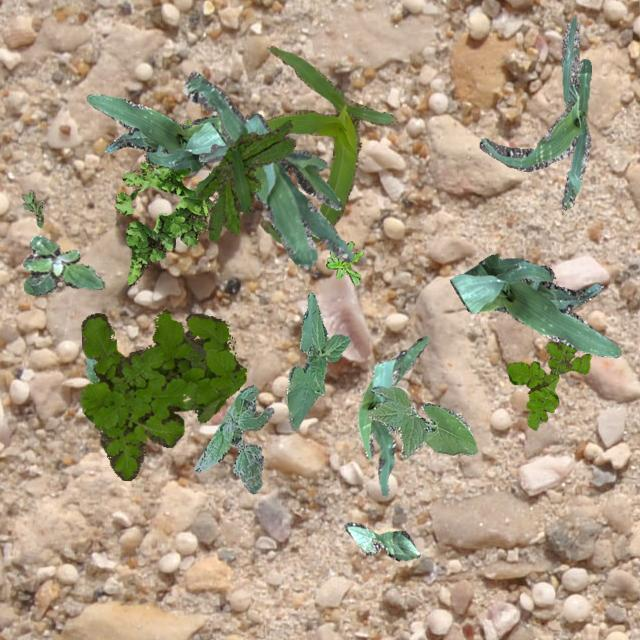crop: (182, 70, 352, 268), (260, 44, 396, 242), (478, 14, 590, 210), (448, 252, 620, 356), (358, 336, 428, 496), (86, 94, 226, 170), (284, 292, 350, 429), (368, 384, 477, 458), (191, 114, 289, 178), (344, 522, 418, 560), (84, 356, 100, 382)
weed: (78, 308, 245, 480), (115, 118, 212, 284), (194, 118, 294, 240), (194, 383, 274, 492), (506, 341, 590, 428), (22, 233, 104, 294), (326, 240, 362, 284), (20, 188, 42, 226)
